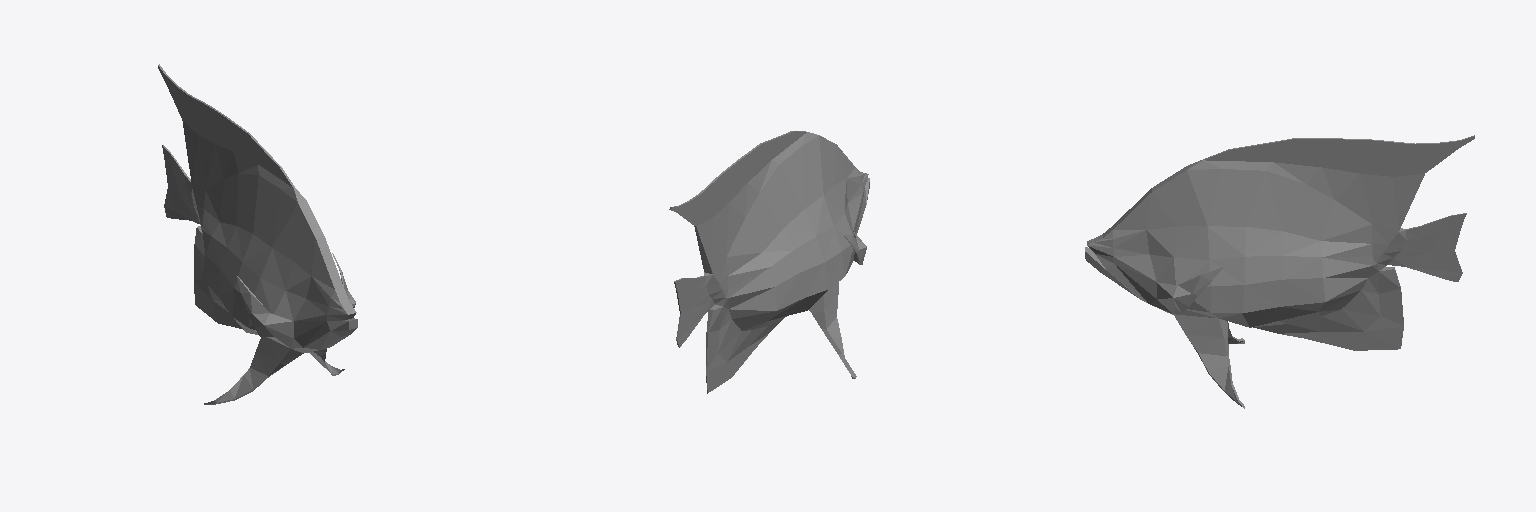
File: TropicalFish15.obj
The picture shows the model from 3 angles: view 1: azimuth 30°, elevation 25°; view 2: azimuth 150°, elevation 25°; view 3: azimuth 270°, elevation 25°; orthographic projection.
Parts seen in each view (by area): view 1: TropicalFish15; view 2: TropicalFish15; view 3: TropicalFish15.
Boxes of the visible parts, x1,y1,x2,y2 form: TropicalFish15: [158, 64, 357, 404]; TropicalFish15: [669, 131, 869, 393]; TropicalFish15: [1085, 135, 1474, 408].
Size of the model in its own units: 103 by 167 by 246.